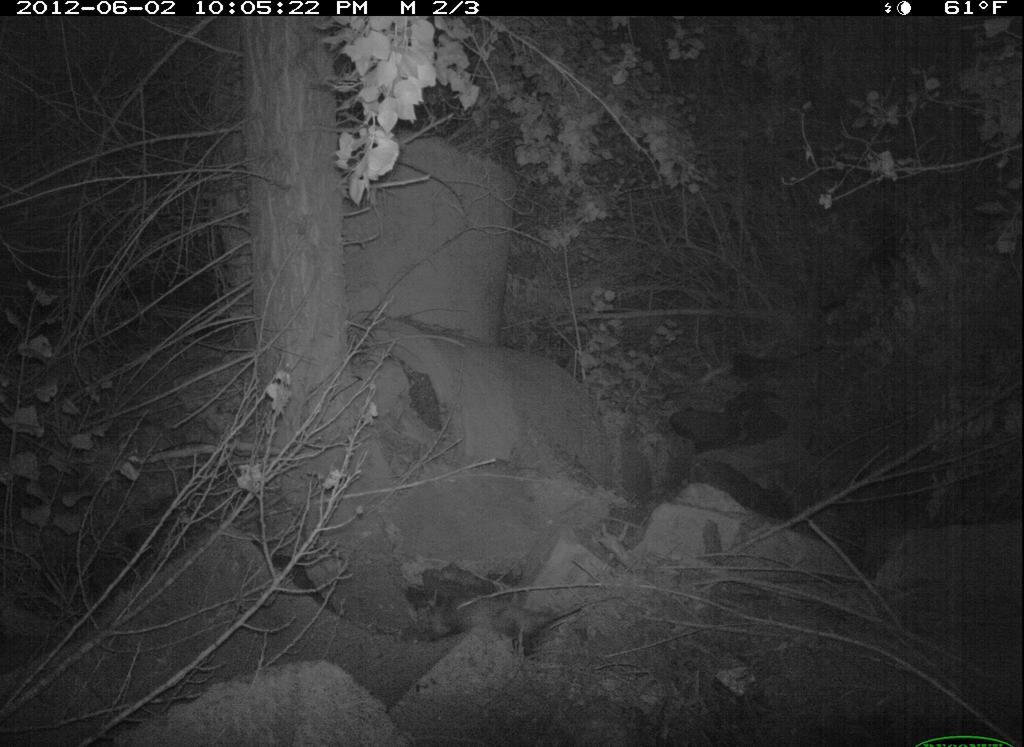opossum: (400, 559, 605, 650)
